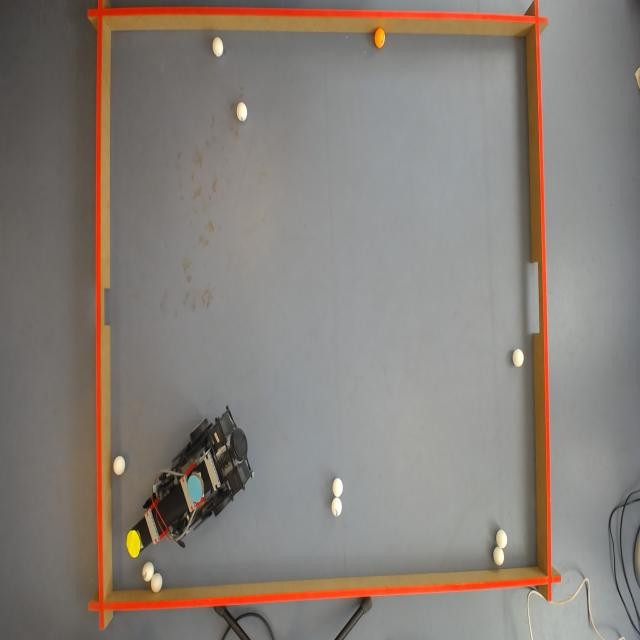orange: (375, 26, 386, 48)
robot: (131, 419, 249, 558)
robot-front: (126, 530, 141, 558)
robot-rear: (187, 475, 202, 503)
white: (213, 38, 226, 62), (235, 101, 249, 122), (142, 562, 154, 584), (498, 529, 510, 550), (494, 546, 506, 567), (511, 347, 524, 366), (152, 575, 165, 594), (114, 458, 127, 476), (332, 498, 344, 516), (332, 478, 344, 496)
